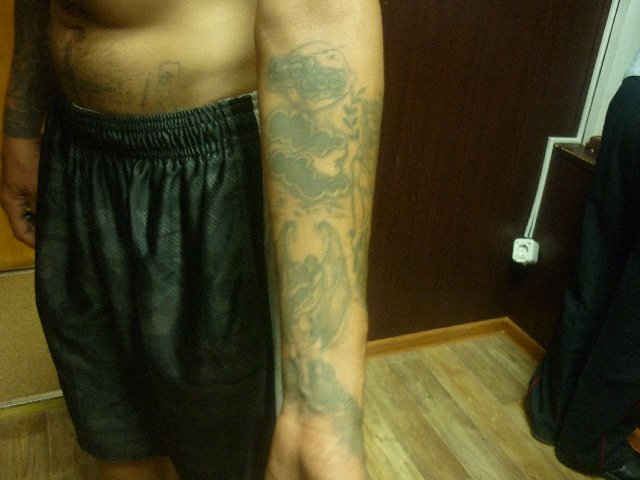tatu1_angel: (273, 219, 355, 365)
